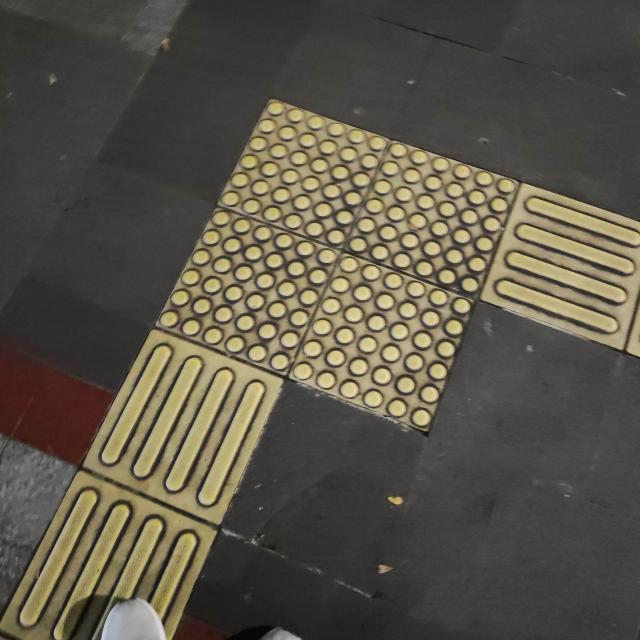kanan: (114, 54, 640, 460)
